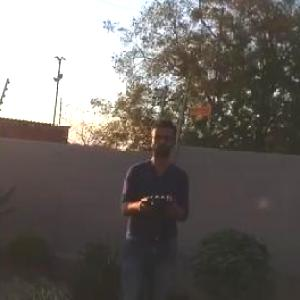follow: (115, 104, 194, 299)
